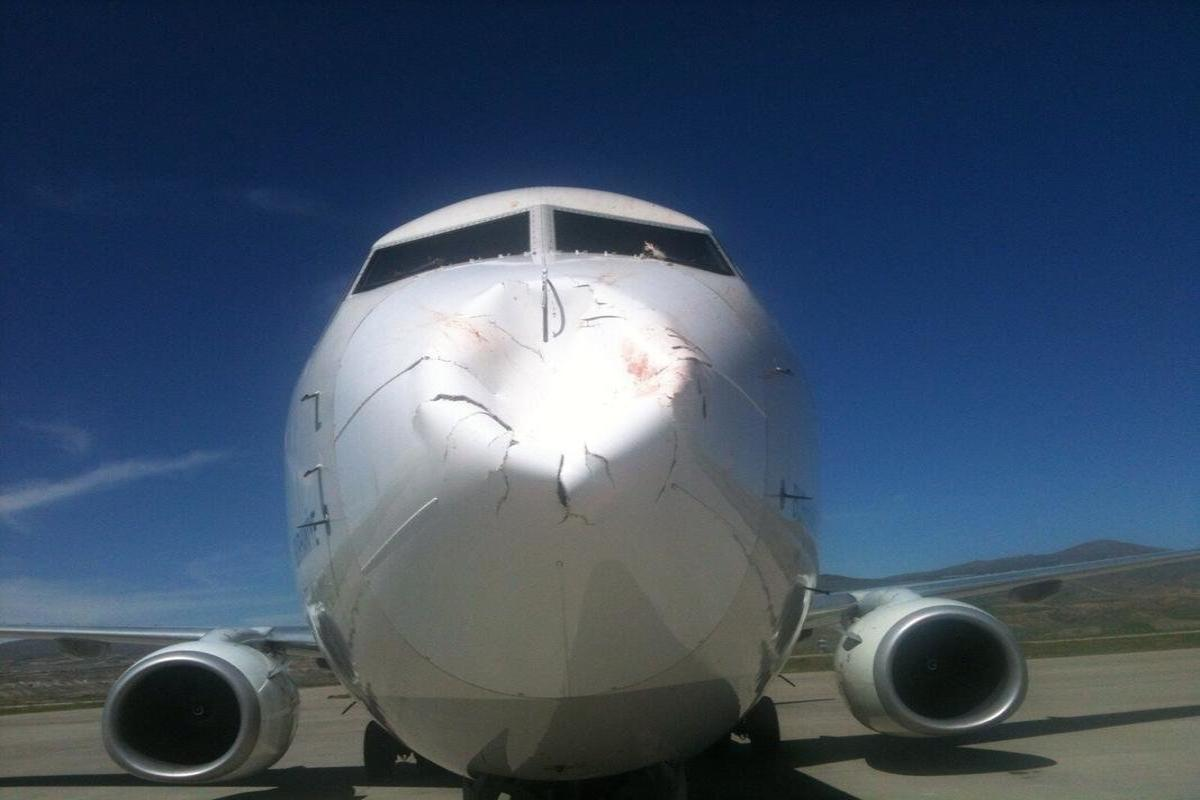Fuselage_damage: (402, 270, 722, 536)
